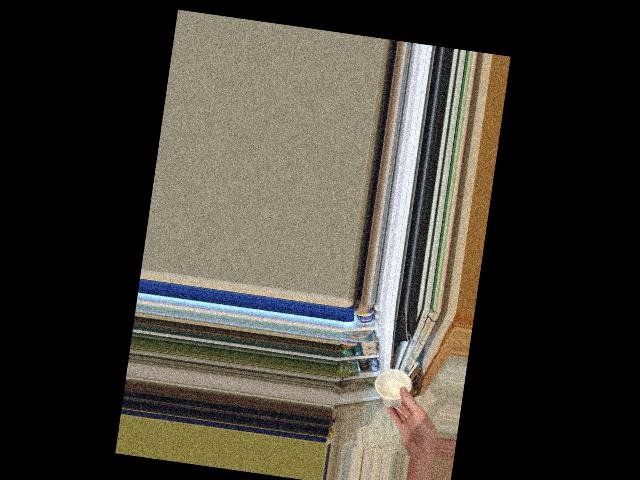cotage: (378, 367, 416, 412)
